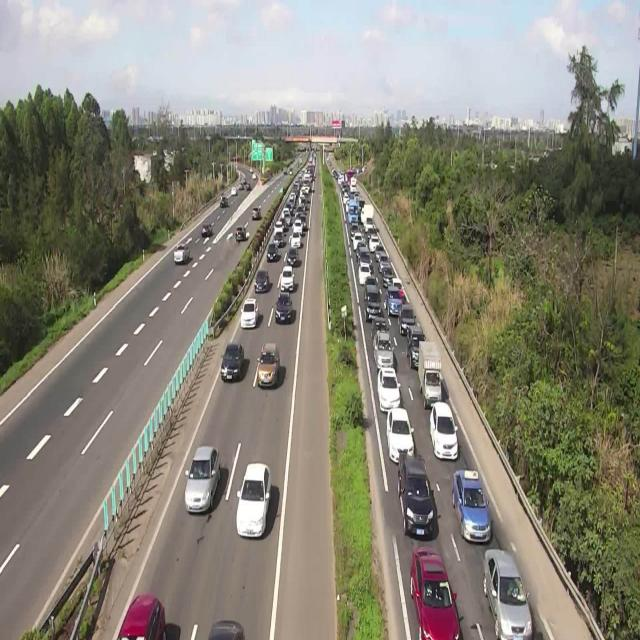point: (298, 133, 320, 162), (231, 152, 247, 179)
